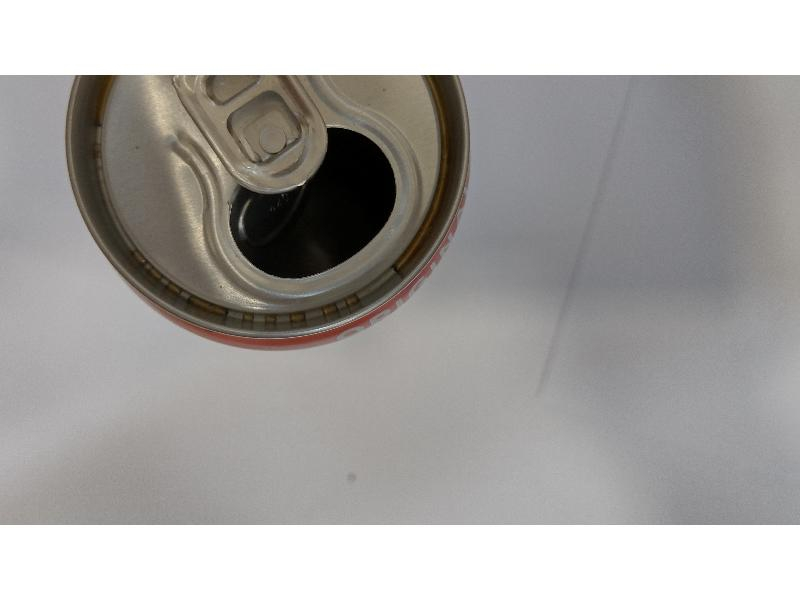can: (67, 74, 473, 352)
